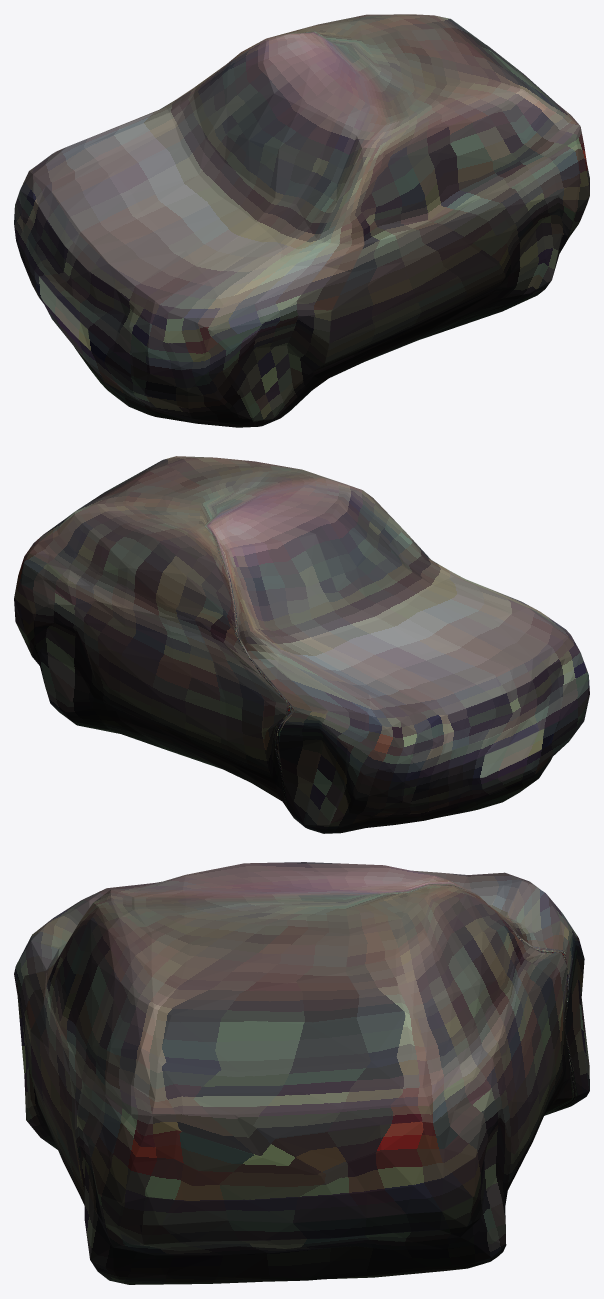
File: video3_407.obj
3 renders of one model, top to bottom at view 1: azimuth 30°, elevation 25°; view 2: azimuth 150°, elevation 25°; view 3: azimuth 270°, elevation 25°, orthographic. The views are drawn at different scales.
Bounding box in the file's own units: 1 × 0.518 × 0.7268.
1 material, 1 textured.
